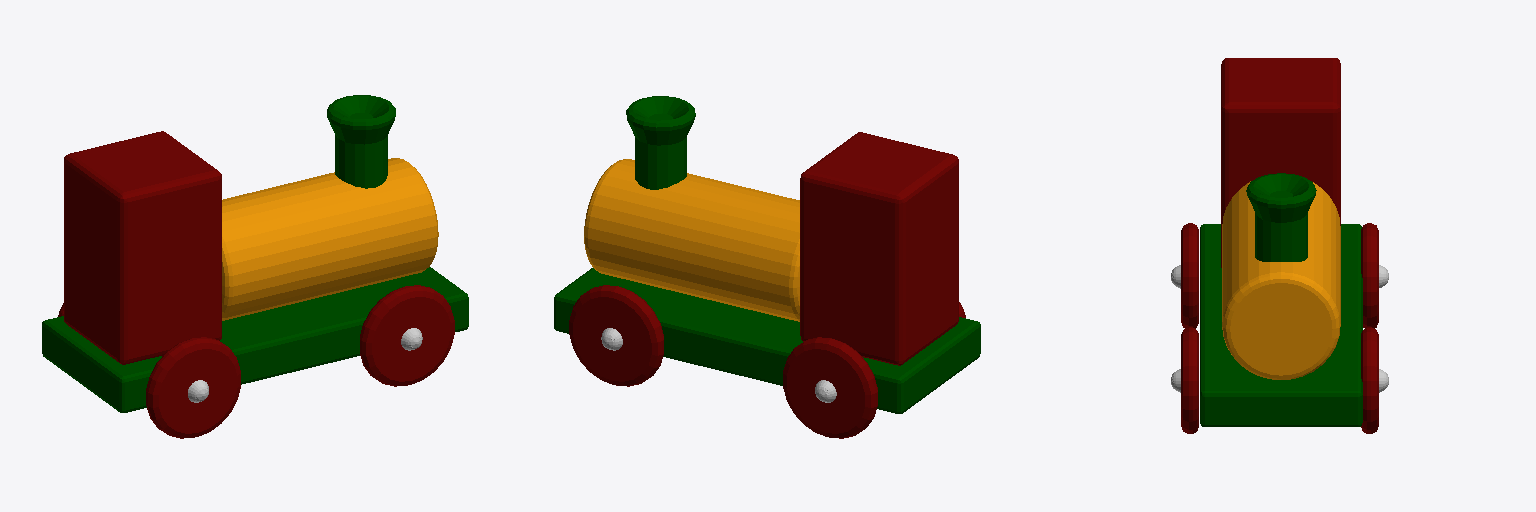
File: train.obj
3 views of the same model, side by side, from view 1: azimuth 30°, elevation 25°; view 2: azimuth 150°, elevation 25°; view 3: azimuth 270°, elevation 25° (orthographic).
Parts seen in each view (by area): view 1: Train; view 2: Train; view 3: Train.
Part boxes in pixels (bbox=[...]): Train: bbox=[42, 95, 468, 438]; Train: bbox=[554, 96, 980, 438]; Train: bbox=[1171, 58, 1388, 433].
Size of the model in its own units: 2 by 1.33 by 1.08.